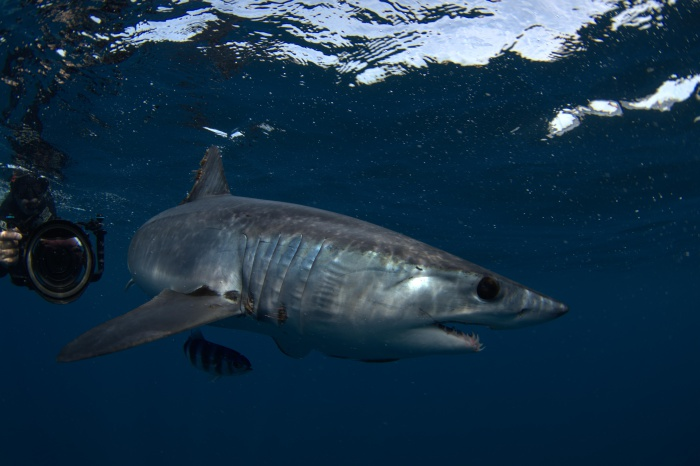Mako: (32, 135, 585, 403)
